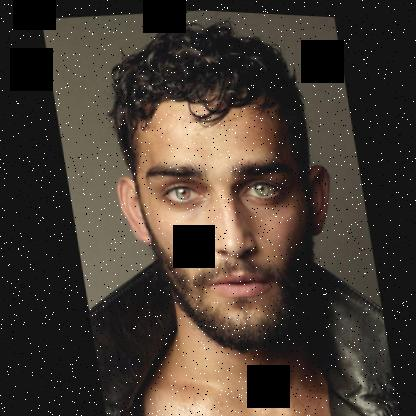Male: (98, 78, 351, 356)
